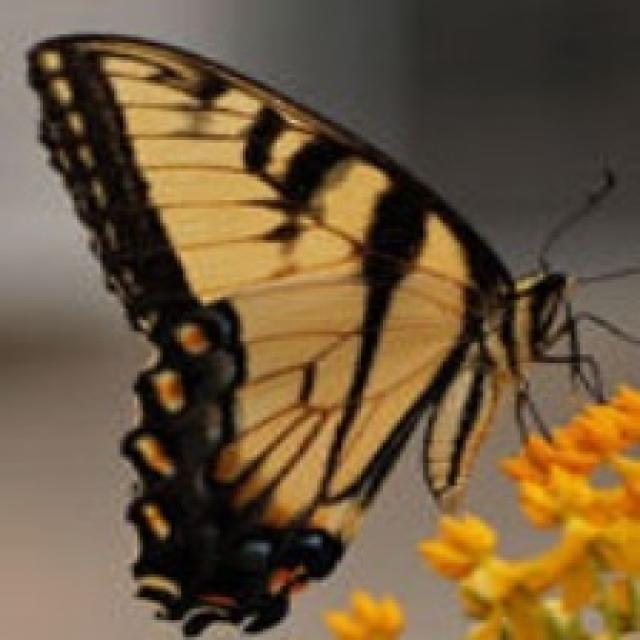butterfly: (23, 29, 637, 637)
